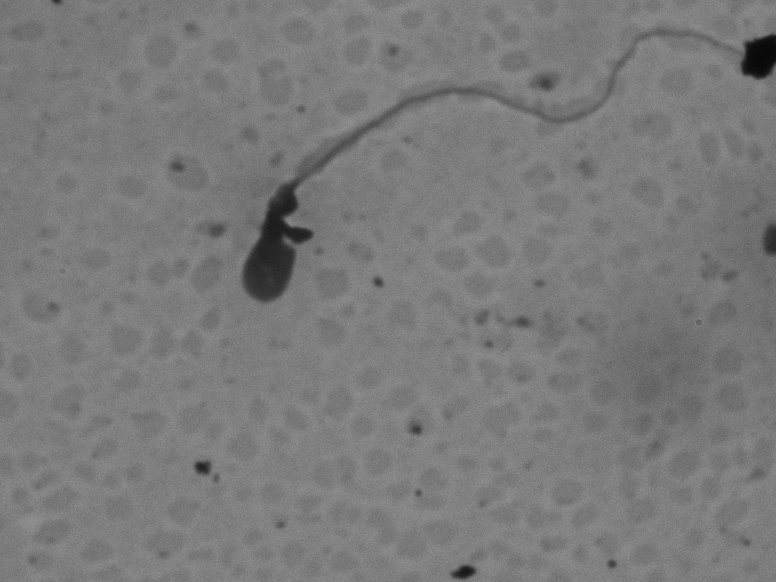Abnormal: (168, 22, 730, 322)
